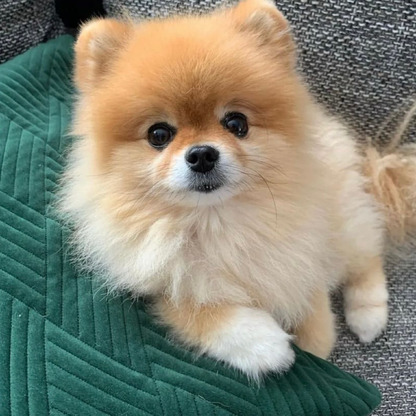Pomeranian: (50, 20, 400, 366)
